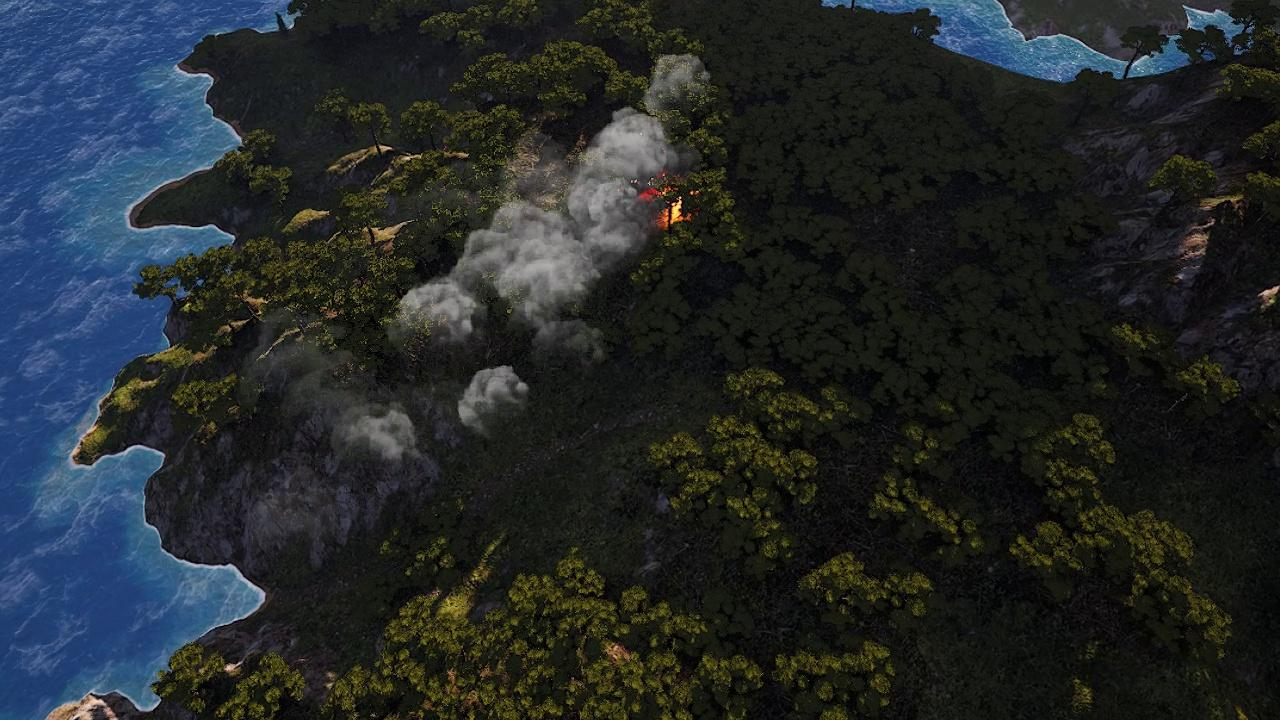smoke: (392, 61, 712, 366)
